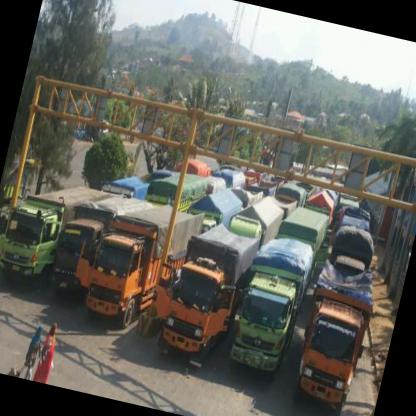truck: (290, 300, 370, 416), (225, 272, 301, 387), (155, 257, 231, 371), (79, 226, 151, 338), (1, 200, 61, 296)
